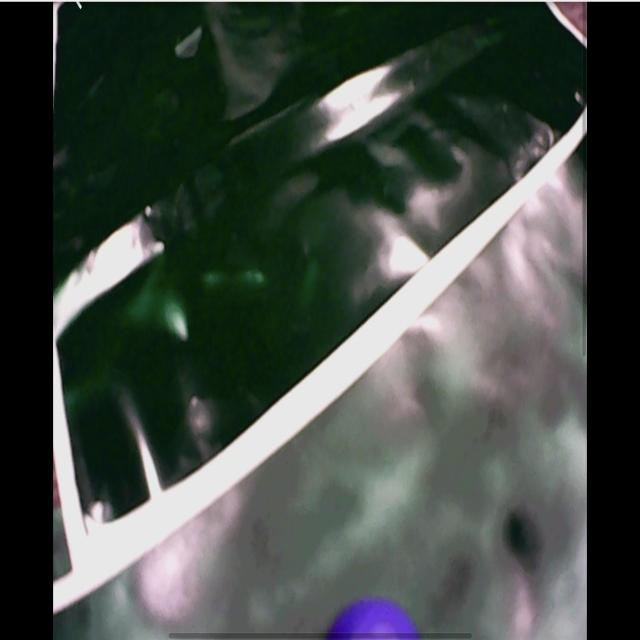ball: (322, 598, 422, 636)
